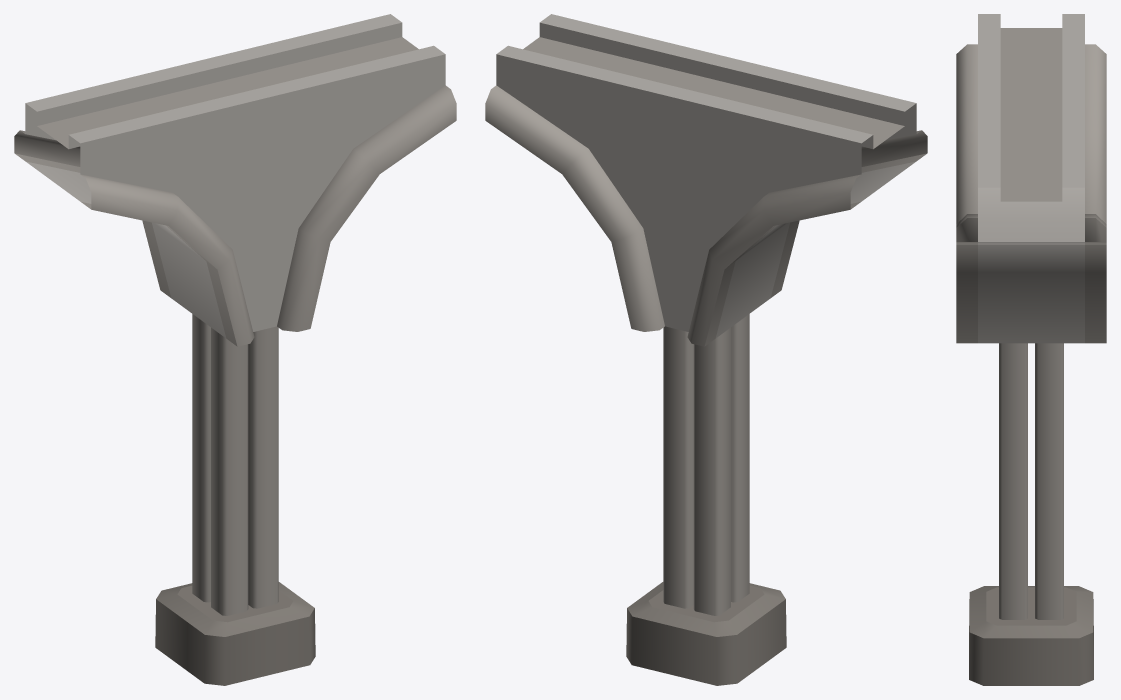
File: Pillar 04.FBX
3 views of the same model, side by side, from view 1: azimuth 30°, elevation 25°; view 2: azimuth 150°, elevation 25°; view 3: azimuth 270°, elevation 25° (orthographic). The views are drawn at different scales.
Visible parts, largest first — view 1: Pillar 04; view 2: Pillar 04; view 3: Pillar 04.
Part boxes in pixels (x1,y1,x2,y2): Pillar 04: (14, 14, 456, 685); Pillar 04: (485, 14, 927, 685); Pillar 04: (956, 14, 1106, 685).
Size of the model in its own units: 300 by 450 by 110.
Materials: 1 (1 with a texture image).
